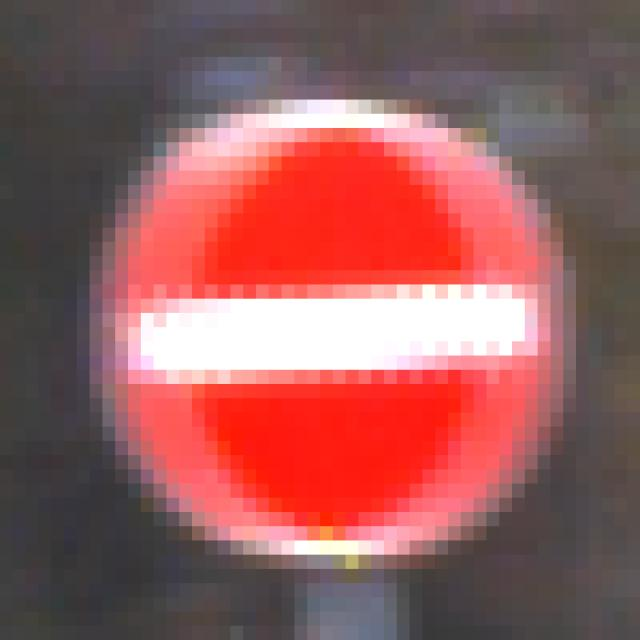No Entry: (65, 72, 577, 570)
